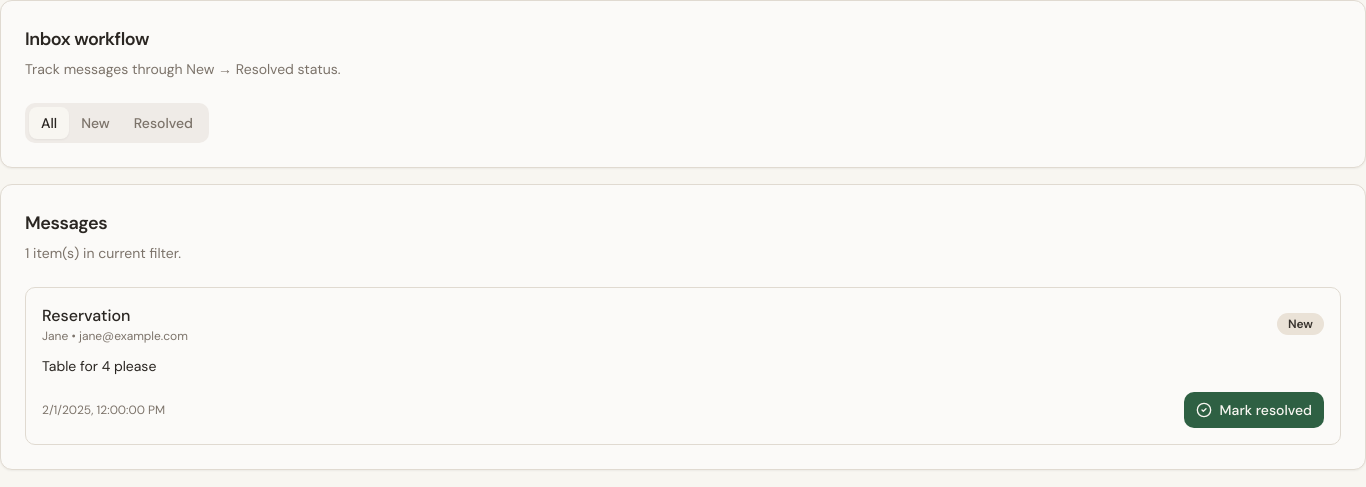
Test: AdminMessagesPage › filters messages by tab
Expected: the text "Reservation" is shown, left=42, top=305, right=130, bottom=326
Click the tab "Resolved" at (163, 123), box left=122, top=107, right=205, bottom=139
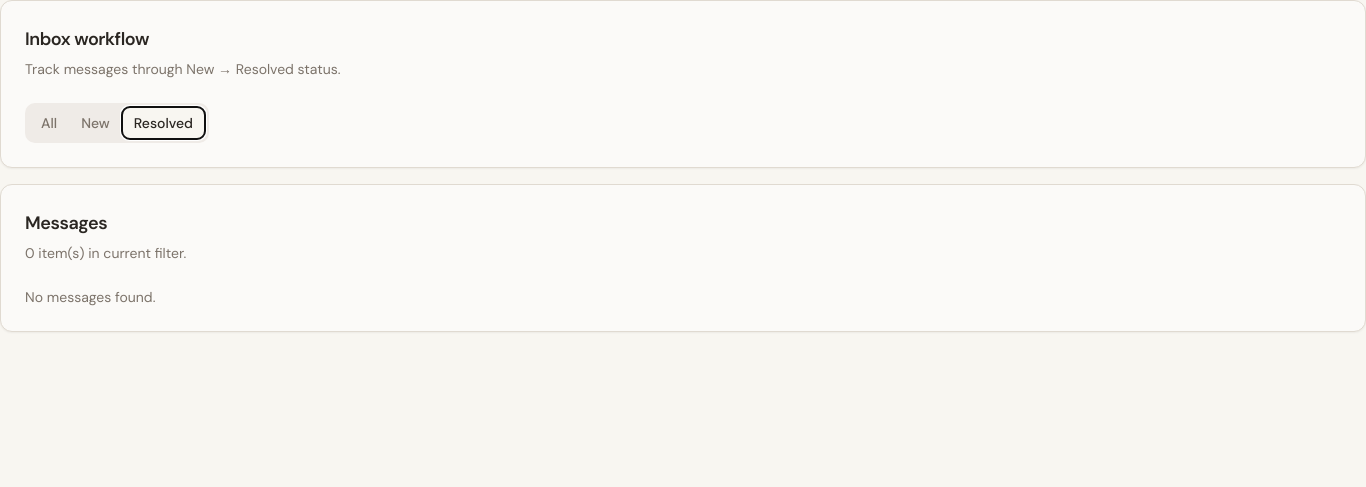
Result: the text "No messages found." is shown at left=25, top=288, right=155, bottom=306
